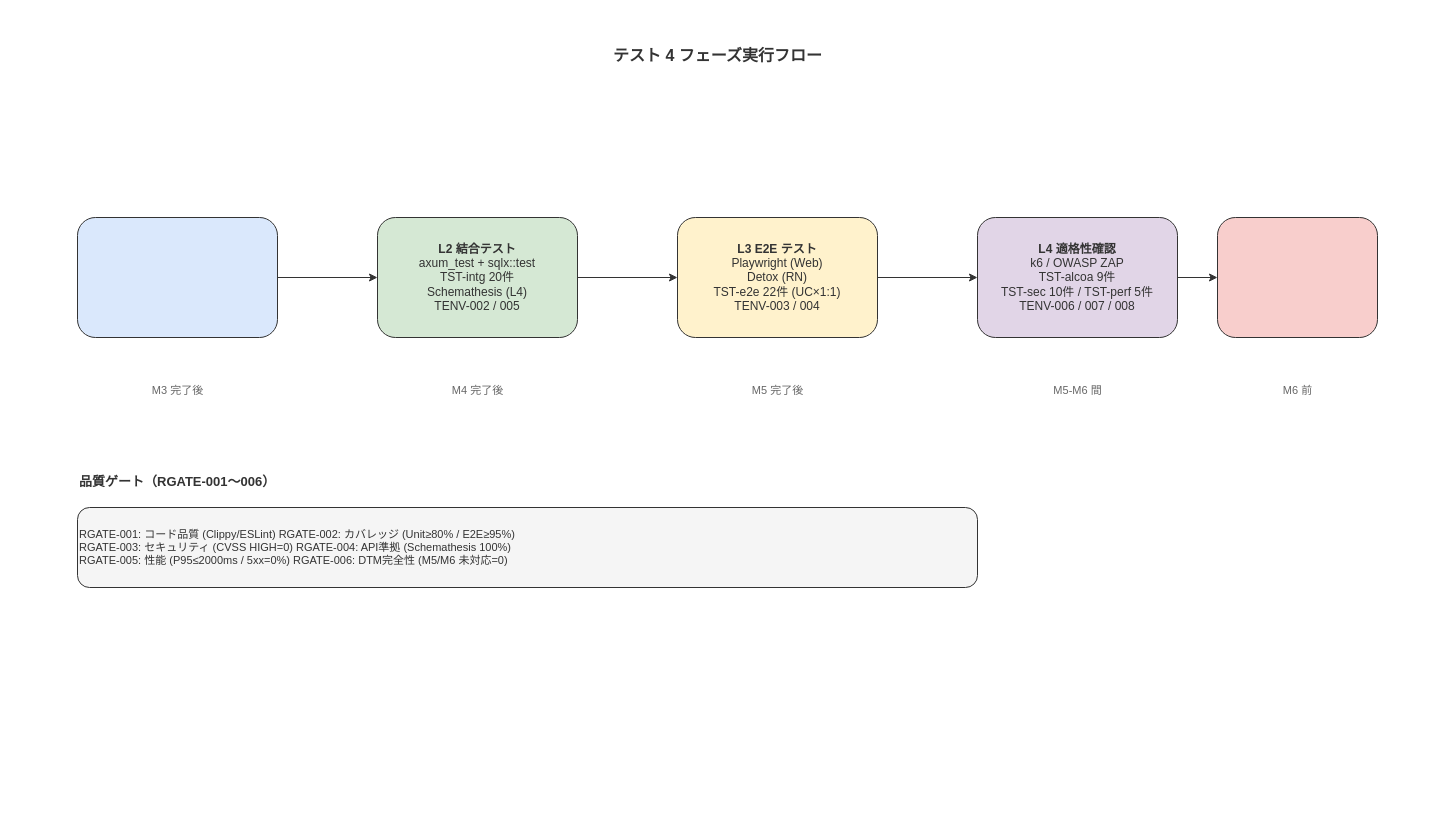
The diagram is 1434 pixels wide and 834 high, and some of its shapes have lost their labels. The shapes that lost their labels are listed below. From the top down, each one's centre as x and y in pixels, then its label:
At point 177,277: "L1 単体テスト cargo test / Jest TST-unit-BE 30件 TST-unit-FE 20件 TENV-001".
At point 1297,277: "UAT 受入シナリオ A-E 22 UC ブラインドテスト 電子サインオフ TENV-008".
